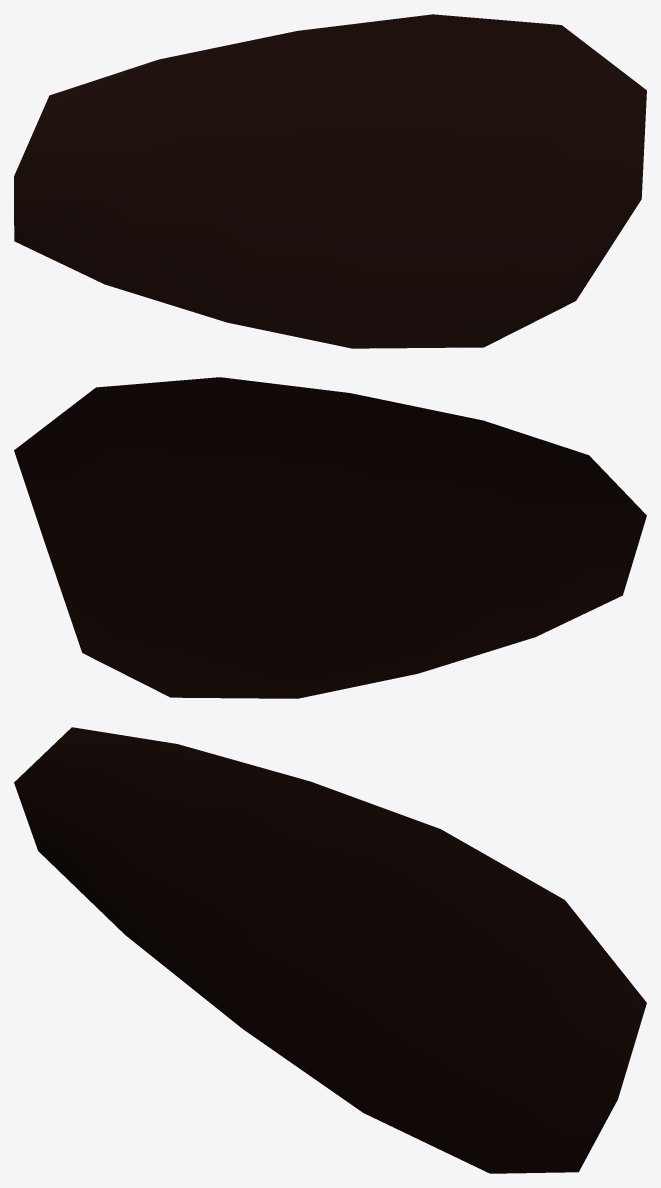
Rendered from finch_feather_flight_secondary_016.obj.
The picture shows the model from 3 angles, top to bottom: view 1: azimuth 30°, elevation 25°; view 2: azimuth 150°, elevation 25°; view 3: azimuth 330°, elevation 25°; orthographic projection. The views are drawn at different scales.
Parts seen in each view (by area): view 1: feather_flight_secondary_016; view 2: feather_flight_secondary_016; view 3: feather_flight_secondary_016.
Part boxes in pixels (left/top/right/bottom): feather_flight_secondary_016: left=14, top=14, right=646, bottom=348; feather_flight_secondary_016: left=14, top=377, right=646, bottom=698; feather_flight_secondary_016: left=14, top=727, right=646, bottom=1173.
Bounding box in the file's own units: 0.0101 × 0.0055 × 0.000337.
